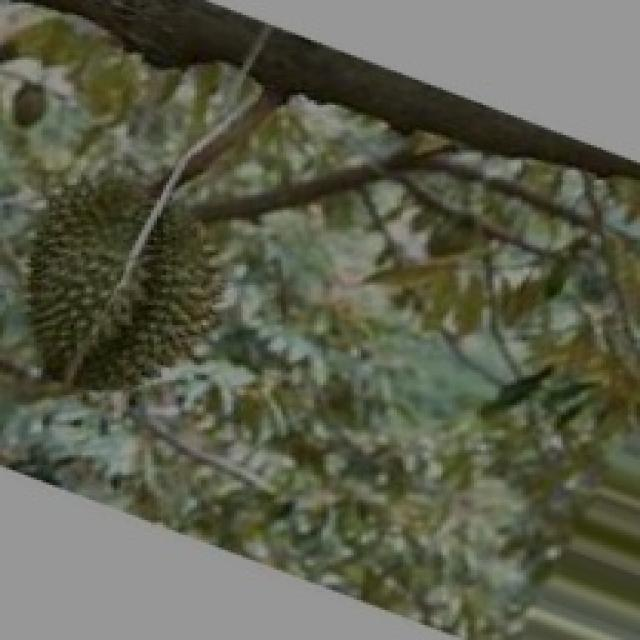fruit: (0, 185, 258, 430)
